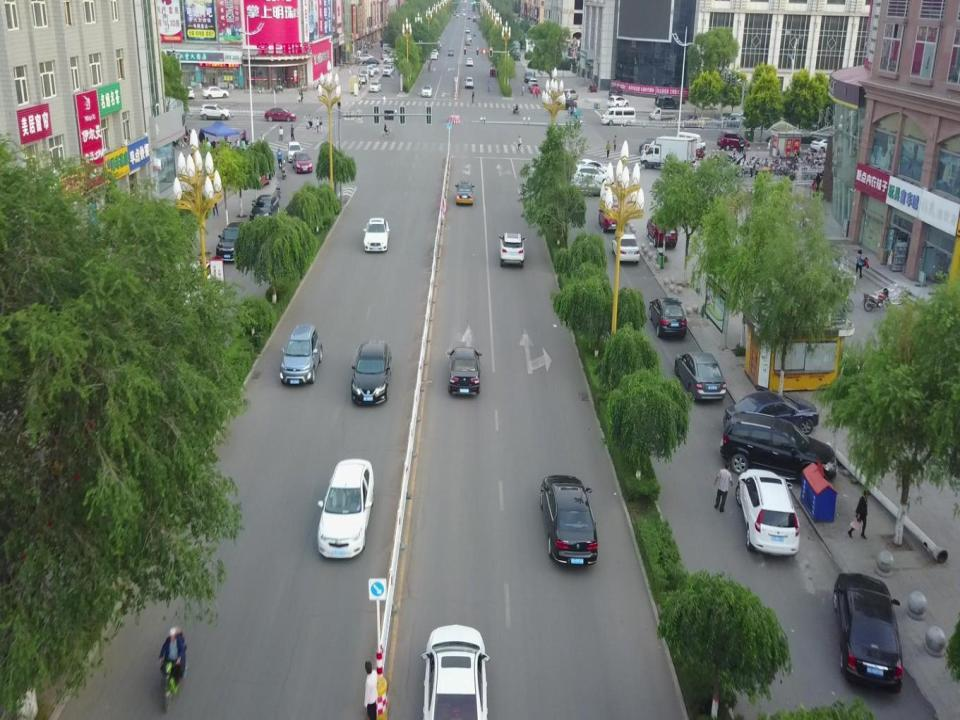car: (722, 410, 838, 486), (834, 574, 902, 693), (420, 624, 490, 720), (318, 458, 374, 558), (737, 469, 799, 556), (541, 474, 597, 565), (726, 388, 818, 439), (159, 258, 219, 324), (350, 338, 393, 406), (280, 323, 322, 385), (675, 351, 724, 402), (447, 347, 481, 393), (650, 298, 686, 338), (216, 220, 250, 261), (646, 215, 678, 248), (498, 232, 526, 266), (362, 217, 390, 250), (612, 232, 640, 262), (572, 158, 612, 179), (249, 194, 280, 220), (570, 165, 607, 186), (568, 176, 604, 197), (598, 204, 622, 232), (717, 130, 750, 150), (199, 102, 231, 120), (454, 179, 474, 205), (718, 111, 745, 128), (654, 94, 682, 110), (292, 151, 312, 173), (264, 108, 296, 121), (639, 138, 661, 156), (287, 141, 303, 162), (202, 86, 228, 98), (607, 96, 628, 108), (556, 98, 578, 108), (608, 86, 623, 99), (562, 88, 578, 100), (381, 64, 395, 76), (181, 86, 194, 98), (361, 57, 380, 65), (421, 85, 432, 97), (369, 80, 381, 91), (357, 54, 374, 61), (528, 78, 539, 88), (369, 63, 379, 74), (465, 76, 474, 88), (524, 70, 533, 82), (384, 55, 398, 62), (365, 65, 373, 76), (358, 73, 366, 84), (530, 84, 539, 93), (360, 70, 368, 80), (380, 51, 388, 59), (466, 57, 473, 66), (447, 48, 454, 56)
truck: (648, 108, 676, 124)
van: (640, 136, 696, 172), (676, 131, 705, 155), (601, 107, 636, 126), (382, 42, 398, 53)
